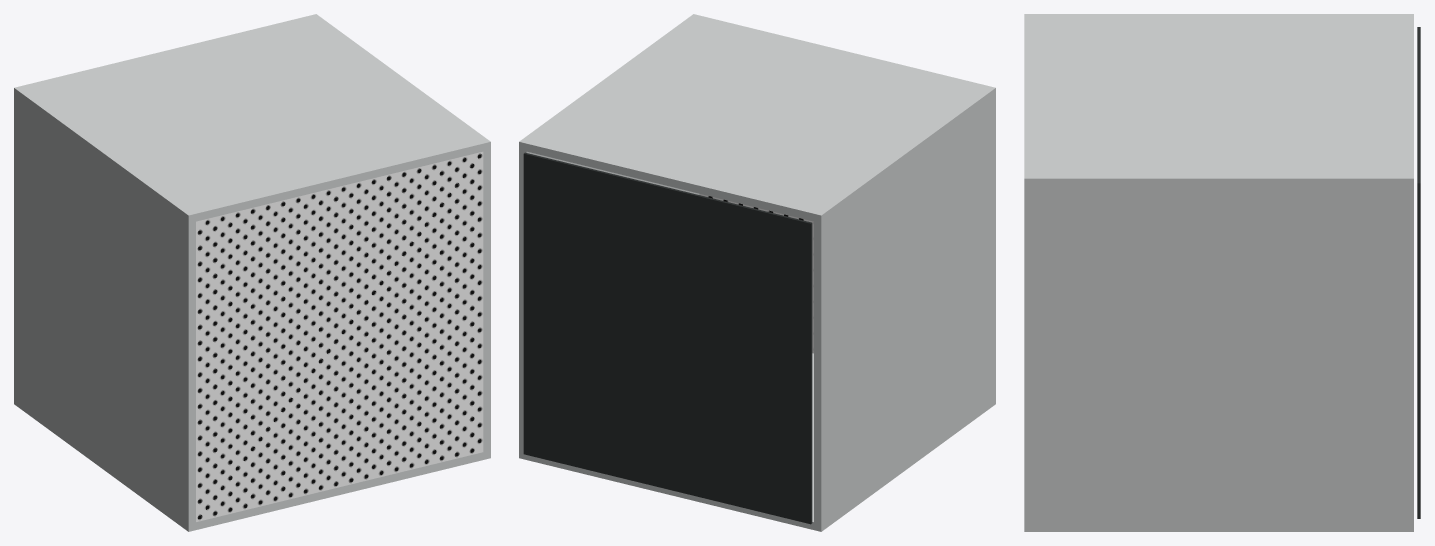
Rendered from ecoclima-egfc-120x120.glb.
3 views of the same model, side by side, from view 1: azimuth 30°, elevation 25°; view 2: azimuth 150°, elevation 25°; view 3: azimuth 270°, elevation 25° (orthographic). The views are drawn at different scales.
Parts seen in each view (by area): view 1: Profile_lamiera_forata.004, Profile_ritorno.132, Profile_ritorno.134, Profile_ritorno.133, Profile_ritorno.135; view 2: Interno.035, Profile_ritorno.132, Profile_ritorno.134, Profile_ritorno.133, Profile_ritorno.135; view 3: Profile_ritorno.135, Profile_ritorno.132, Profile_ritorno.133, Interno.035.
Part boxes in pixels (<box>): Profile_lamiera_forata.004: <box>196,151,483,521</box>; Profile_ritorno.132: <box>14,14,490,223</box>; Profile_ritorno.134: <box>14,96,195,523</box>; Profile_ritorno.133: <box>14,396,490,531</box>; Profile_ritorno.135: <box>483,149,490,451</box>; Interno.035: <box>523,152,812,524</box>; Profile_ritorno.132: <box>519,14,995,223</box>; Profile_ritorno.134: <box>814,96,995,523</box>; Profile_ritorno.133: <box>519,353,995,531</box>; Profile_ritorno.135: <box>519,149,699,451</box>; Profile_ritorno.135: <box>1024,187,1413,523</box>; Profile_ritorno.132: <box>1024,14,1413,187</box>; Profile_ritorno.133: <box>1024,523,1413,531</box>; Interno.035: <box>1417,27,1420,518</box>.
Bounding box in the file's own units: 0.12 × 0.12 × 0.122.
Materials: 3 (1 with a texture image).
